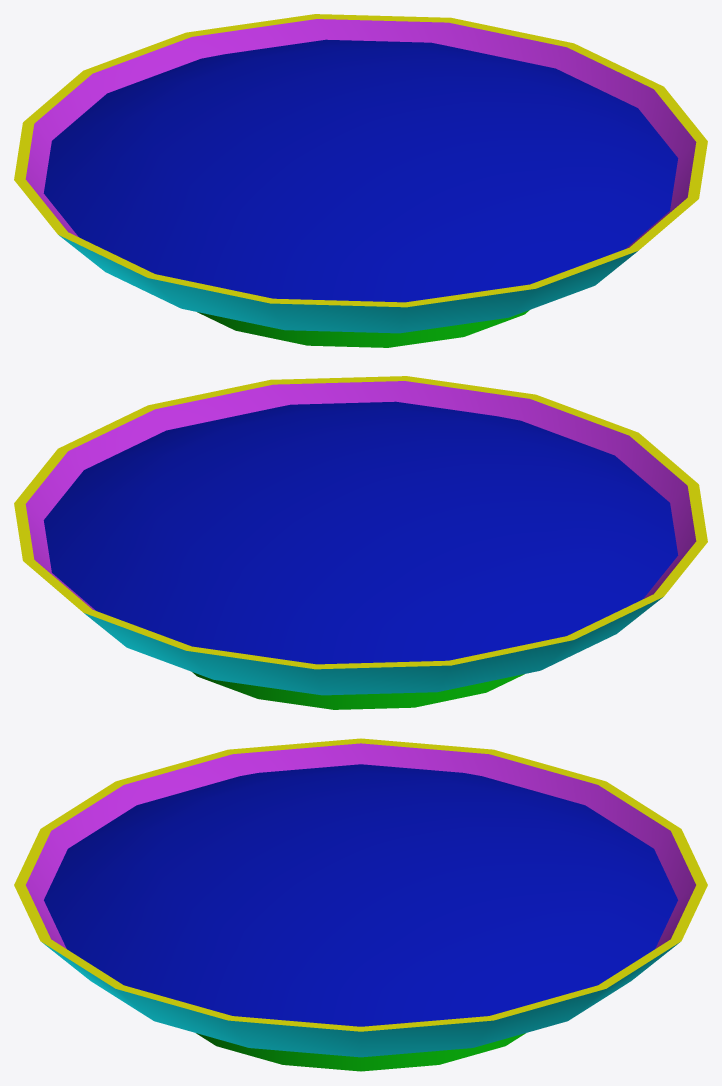
File: Gosari.fbx
3 views of the same model, one above another, from view 1: azimuth 30°, elevation 25°; view 2: azimuth 150°, elevation 25°; view 3: azimuth 270°, elevation 25° (orthographic).
Parts seen in each view (by area): view 1: Gosari; view 2: Gosari; view 3: Gosari.
Part boxes in pixels (x1=…): Gosari: x1=14, y1=14, x2=707, y2=347; Gosari: x1=14, y1=376, x2=707, y2=709; Gosari: x1=14, y1=738, x2=707, y2=1071.
Size of the model in its own units: 38.62 by 38.62 by 9.17.
